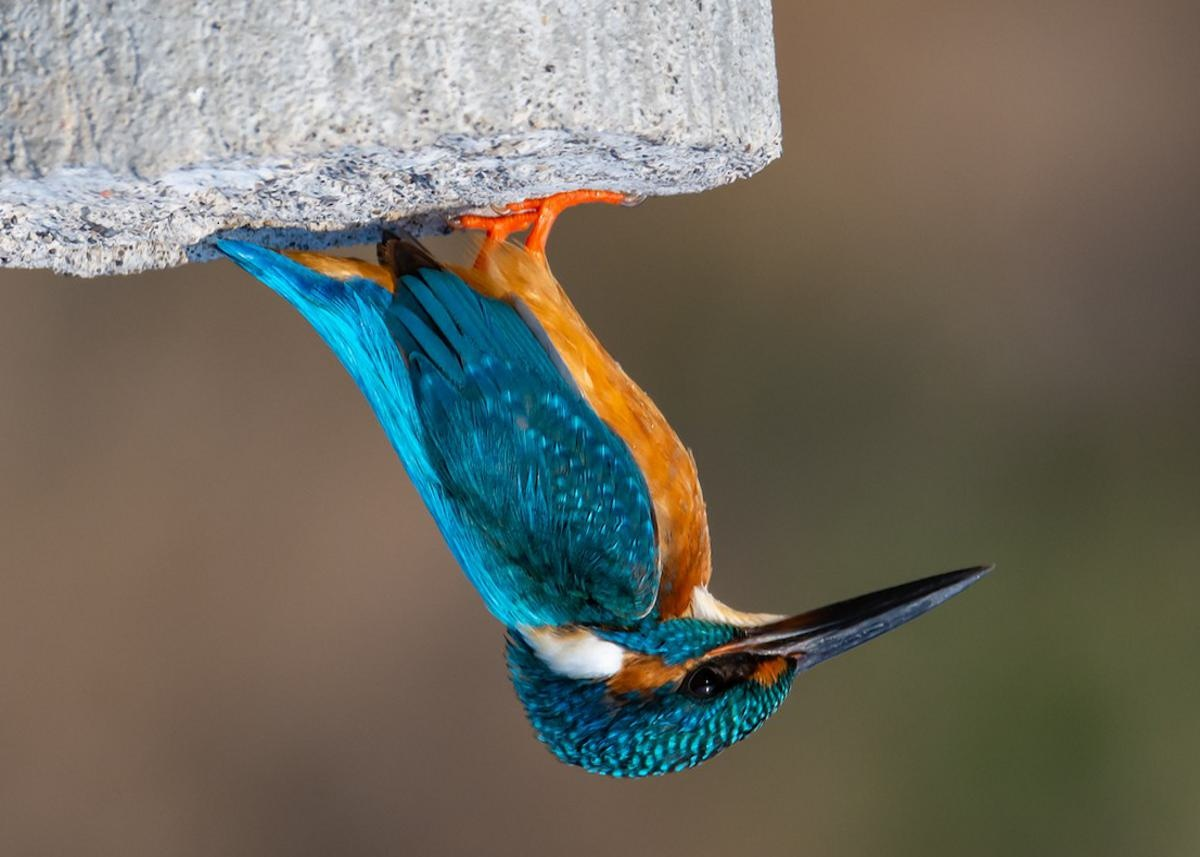kingfisher: (261, 206, 1008, 780)
